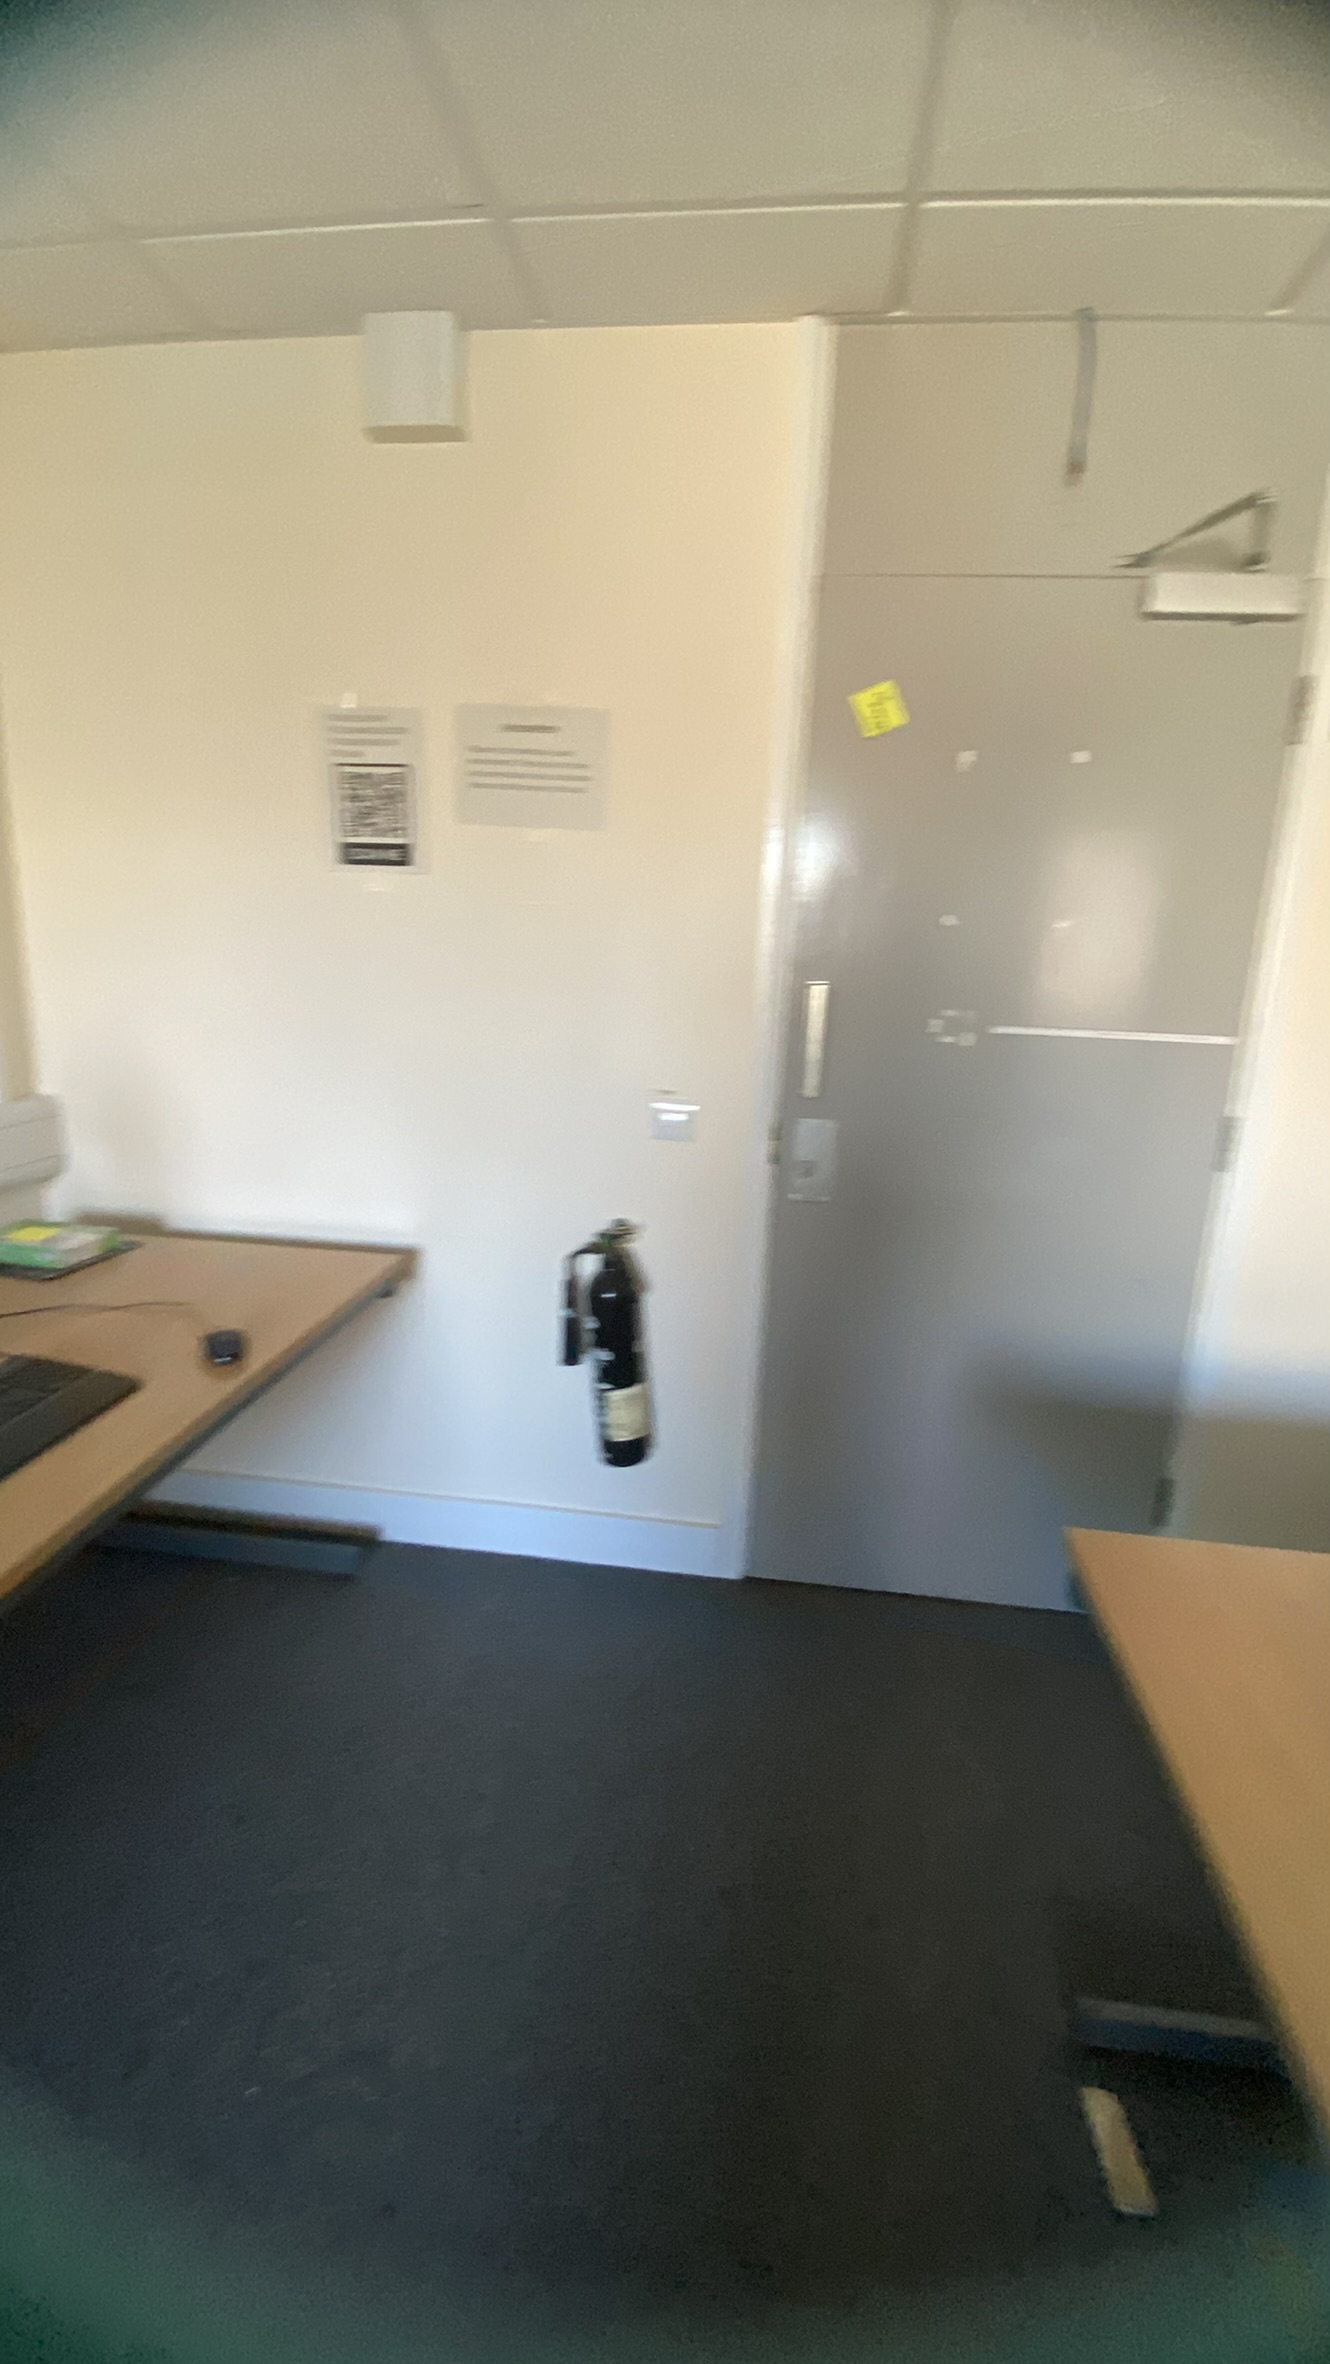door: (715, 570, 1302, 1667)
